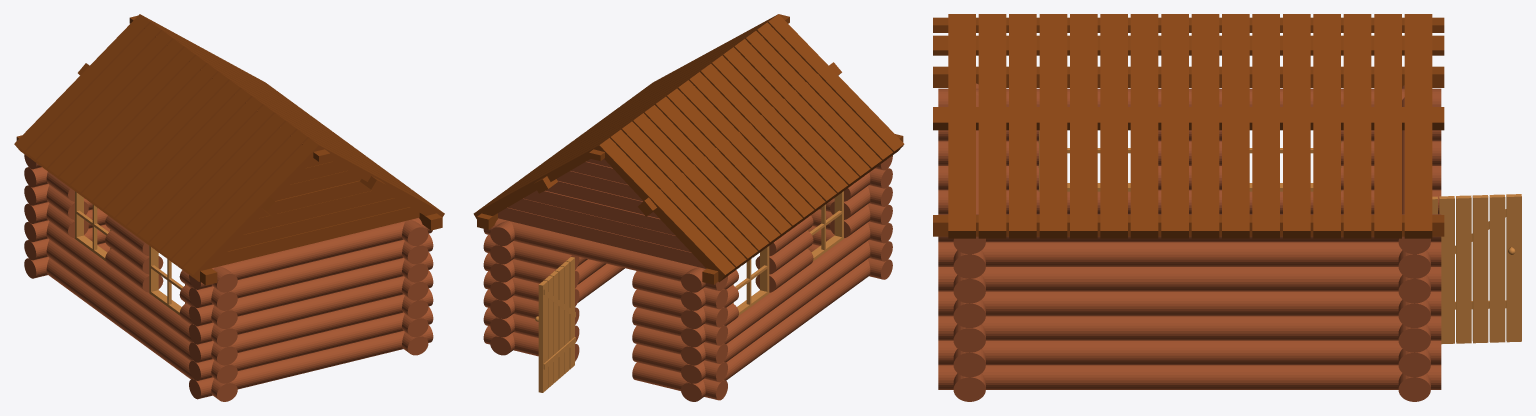
The model's file is woodhouse (1).fbx.
The picture shows the model from 3 angles, left to right: view 1: azimuth 30°, elevation 25°; view 2: azimuth 150°, elevation 25°; view 3: azimuth 270°, elevation 25°; orthographic projection. The views are drawn at different scales.
Visible parts, largest first — view 1: roof, back wall, walls, back, front wall, windows; view 2: roof, walls, front wall, front, door, back wall, windows; view 3: roof, walls, door, back wall, front wall.
Boxes of the visible parts, x1,y1,x2,y2 form: roof: (14,14,444,285); back wall: (189,218,433,399); walls: (46,171,428,401); back: (213,159,419,267); front wall: (24,154,110,278); windows: (74,191,185,315); roof: (473,14,904,284); walls: (490,173,870,401); front wall: (483,218,727,400); front: (498,159,706,268); door: (535,257,575,392); back wall: (808,155,892,279); windows: (733,191,843,315); roof: (933,14,1444,238); walls: (938,88,1441,389); door: (1432,194,1521,344); back wall: (953,83,985,401); front wall: (1398,85,1430,401).
Bounding box in the file's own units: 321 × 281 × 482.
